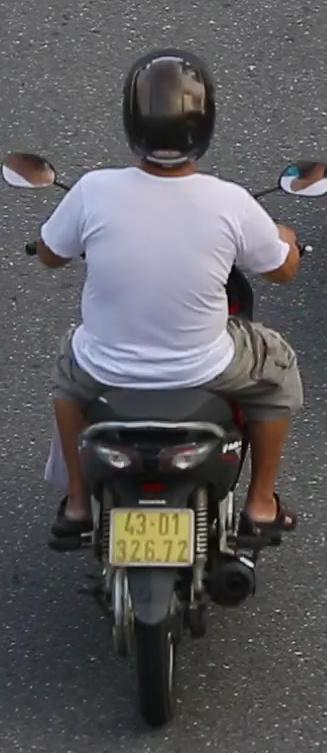LP: (102, 501, 200, 583)
helmet: (120, 37, 219, 169)
